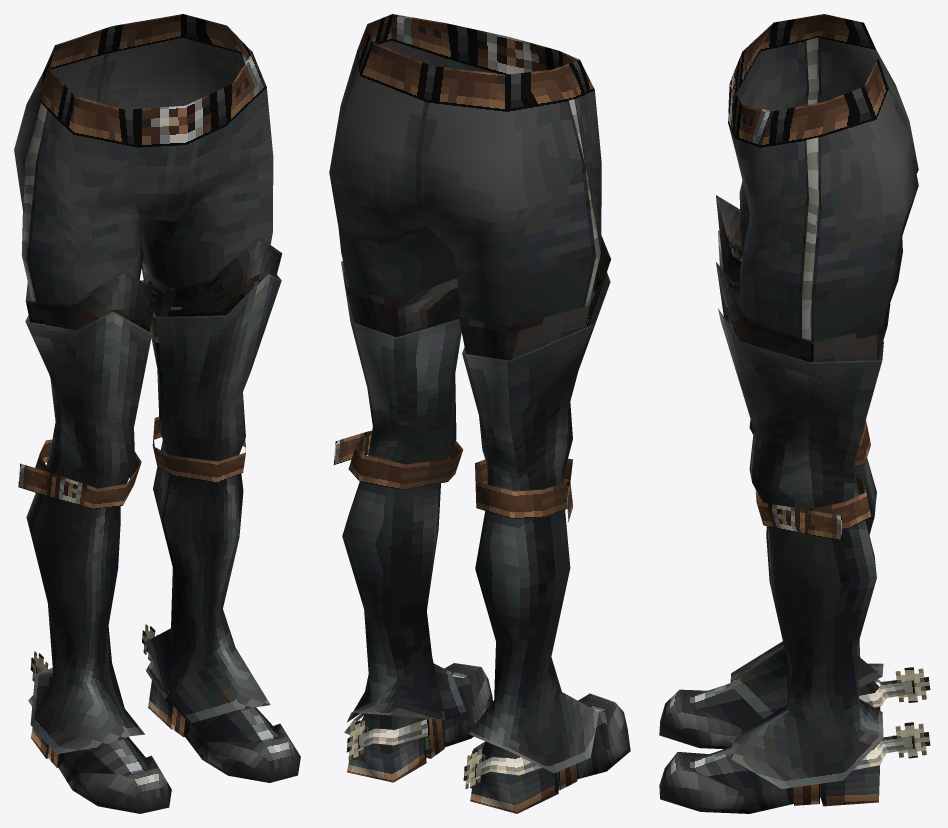
Rendered from f_reg190.glb.
3 renders of one model, left to right at view 1: azimuth 30°, elevation 25°; view 2: azimuth 150°, elevation 25°; view 3: azimuth 270°, elevation 25°, orthographic. The views are drawn at different scales.
Bounding box in the file's own units: 40.86 × 110 × 38.67.
Materials: 1 (1 with a texture image).
